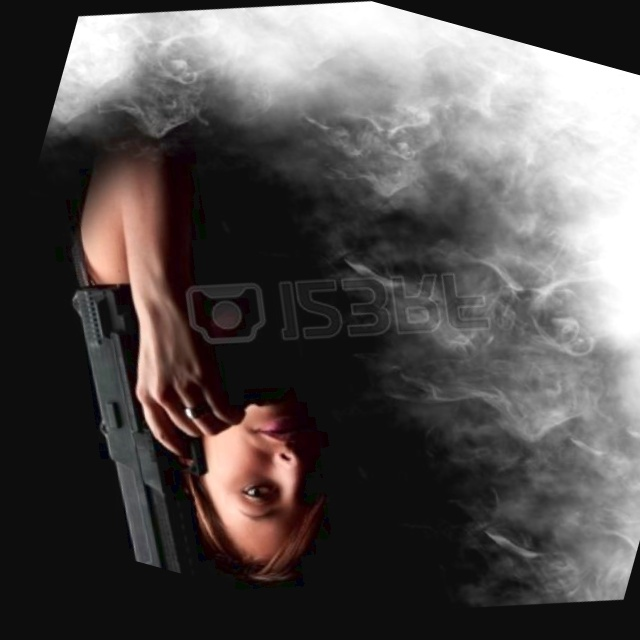gun: (0, 234, 362, 601)
